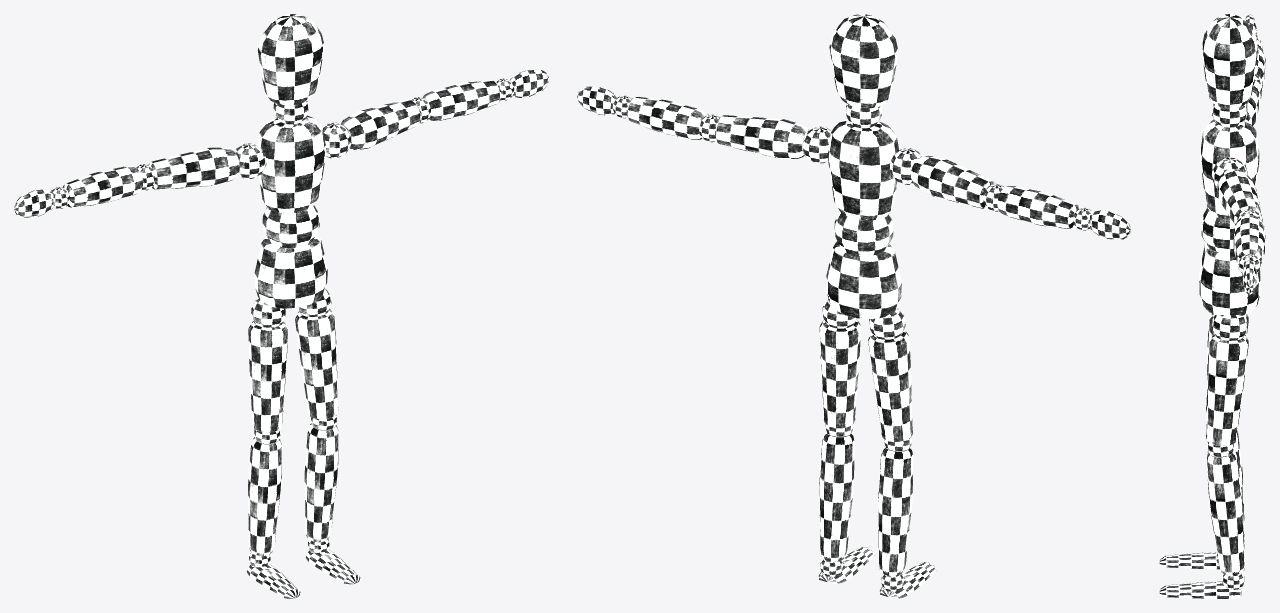
3 renders of one model, left to right at view 1: azimuth 30°, elevation 25°; view 2: azimuth 150°, elevation 25°; view 3: azimuth 270°, elevation 25°, orthographic. The views are drawn at different scales.
Parts seen in each view (by area): view 1: Upper Body, Head, Pelvis, Right Thigh, LeftThigh, Right Shin, LeftShin, Right Upper Arm, LeftUpper Arm, Right Lower Arm, LeftLower Arm, Joint (+6 smaller); view 2: Upper Body, Head, Pelvis, Right Shin, LeftShin, Right Thigh, LeftThigh, LeftUpper Arm, Right Upper Arm, Right Lower Arm, LeftLower Arm, Joint (+6 smaller); view 3: Head, LeftThigh, LeftShin, Upper Body, Pelvis, LeftJoint (×5), LeftUpper Arm, LeftLower Arm, LeftFoot, Joint, Right Foot, Neck (+5 smaller).
Part boxes in pixels (box(x1,y1,x2,y2)): Upper Body: box(257, 115, 326, 213); Head: box(257, 14, 324, 105); Pelvis: box(254, 233, 327, 308); Right Thigh: box(248, 321, 288, 431); LeftThigh: box(295, 308, 338, 419); Right Shin: box(248, 437, 282, 555); LeftShin: box(304, 423, 338, 542); Right Upper Arm: box(148, 147, 239, 189); LeftUpper Arm: box(339, 99, 420, 150); Right Lower Arm: box(63, 166, 142, 207); LeftLower Arm: box(422, 80, 500, 121); Joint: box(262, 205, 319, 247); Upper Body: box(827, 119, 898, 220); Head: box(829, 14, 898, 108); Pelvis: box(826, 241, 901, 318); Right Shin: box(878, 446, 913, 575); LeftShin: box(819, 432, 854, 561); Right Thigh: box(868, 330, 912, 441); LeftThigh: box(819, 319, 861, 428); LeftUpper Arm: box(715, 115, 808, 158); Right Upper Arm: box(911, 155, 995, 208); Right Lower Arm: box(997, 186, 1080, 228); LeftLower Arm: box(626, 97, 708, 139); Joint: box(834, 212, 893, 256); Head: box(1202, 14, 1257, 109); LeftThigh: box(1206, 333, 1248, 445); LeftShin: box(1206, 450, 1244, 575); Upper Body: box(1200, 119, 1259, 219); Pelvis: box(1199, 243, 1260, 315); LeftJoint (×5): box(1207, 157, 1260, 589); LeftUpper Arm: box(1217, 169, 1261, 225); LeftLower Arm: box(1233, 214, 1265, 264); LeftFoot: box(1159, 581, 1241, 598); Joint: box(1201, 207, 1234, 253); Right Foot: box(1159, 552, 1220, 569); Neck: box(1212, 103, 1247, 127).
Bounding box in the file's own units: 640 × 630 × 108.
Materials: 1 (1 with a texture image).
